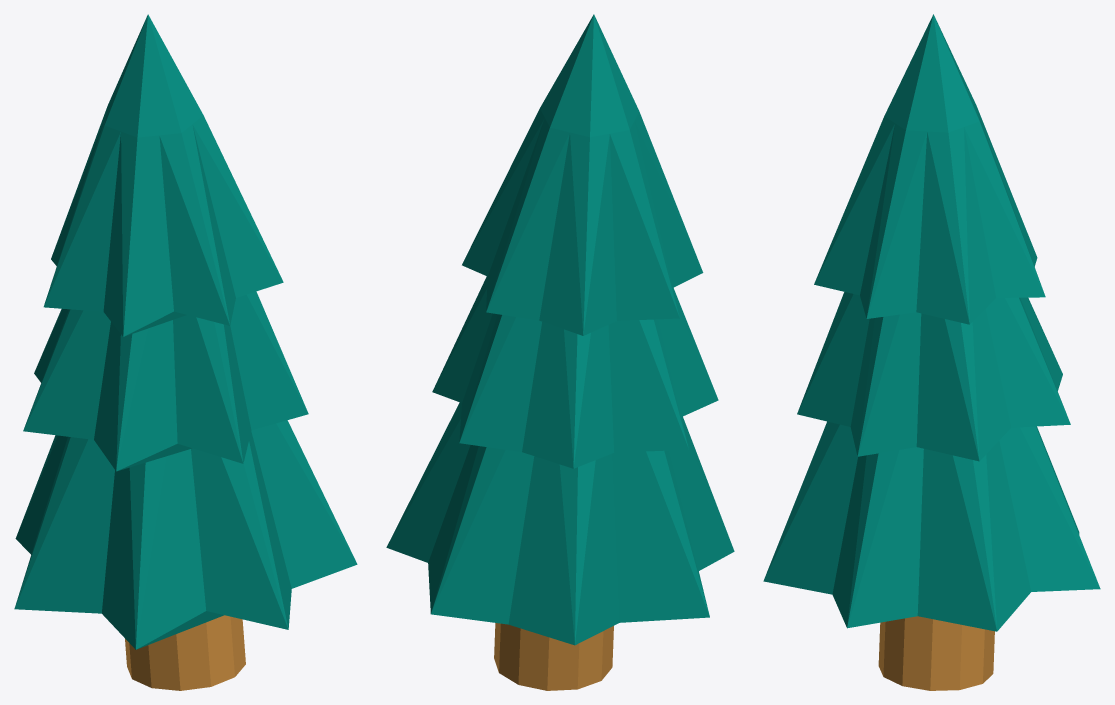
Rendered from tree_08_mesh100681590.glb.
3 renders of one model, left to right at view 1: azimuth 30°, elevation 25°; view 2: azimuth 150°, elevation 25°; view 3: azimuth 270°, elevation 25°, orthographic. The views are drawn at different scales.
Visible parts, largest first — view 1: part_2_mesh100681590_1, part_1_mesh100681590; view 2: part_2_mesh100681590_1, part_1_mesh100681590; view 3: part_2_mesh100681590_1, part_1_mesh100681590.
Part boxes in pixels (x1,y1,x2,y2): part_2_mesh100681590_1: (14,14,357,649); part_1_mesh100681590: (125,615,245,690); part_2_mesh100681590_1: (386,14,734,645); part_1_mesh100681590: (494,623,613,690); part_2_mesh100681590_1: (763,14,1100,631); part_1_mesh100681590: (878,616,994,690).
Size of the model in its own units: 0.1631 by 0.3445 by 0.1643.
